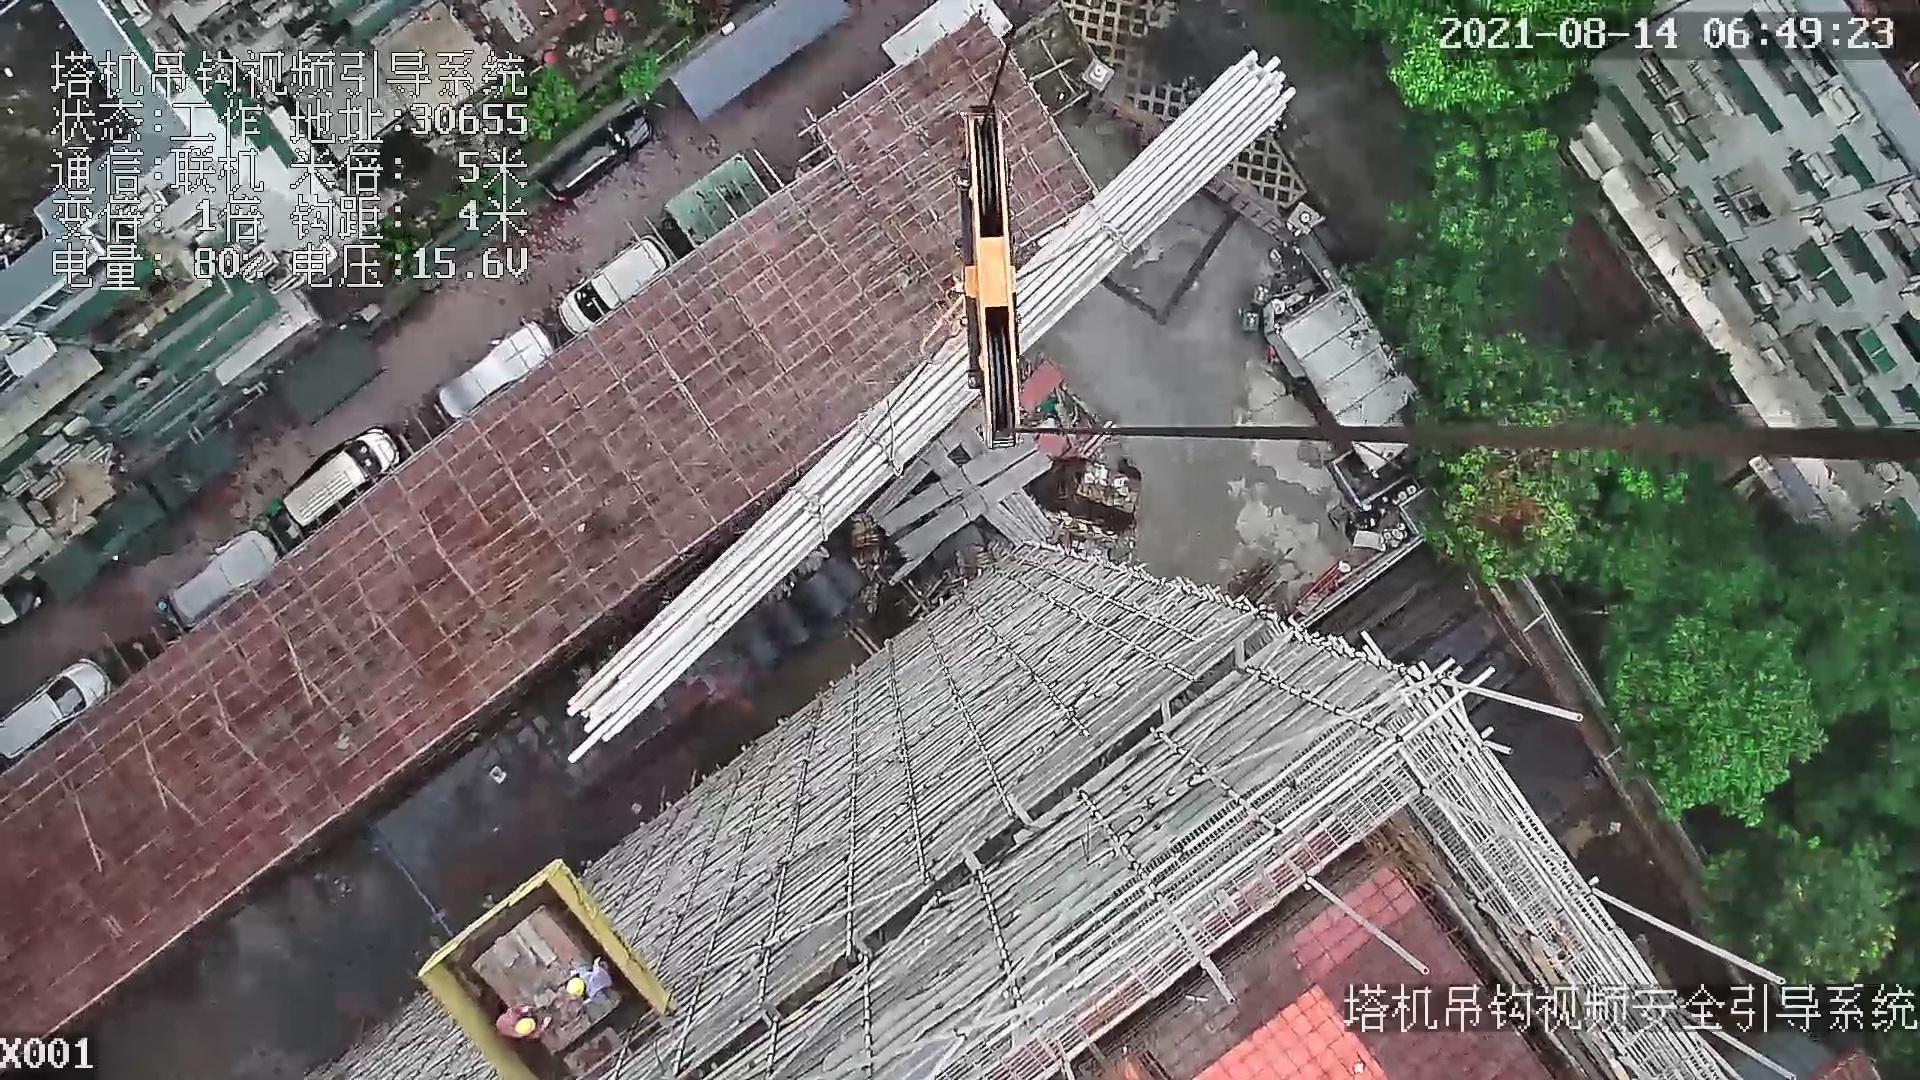helmet: (564, 974, 588, 1002), (510, 1016, 540, 1037)
person: (494, 1003, 555, 1045), (568, 959, 614, 1005)
